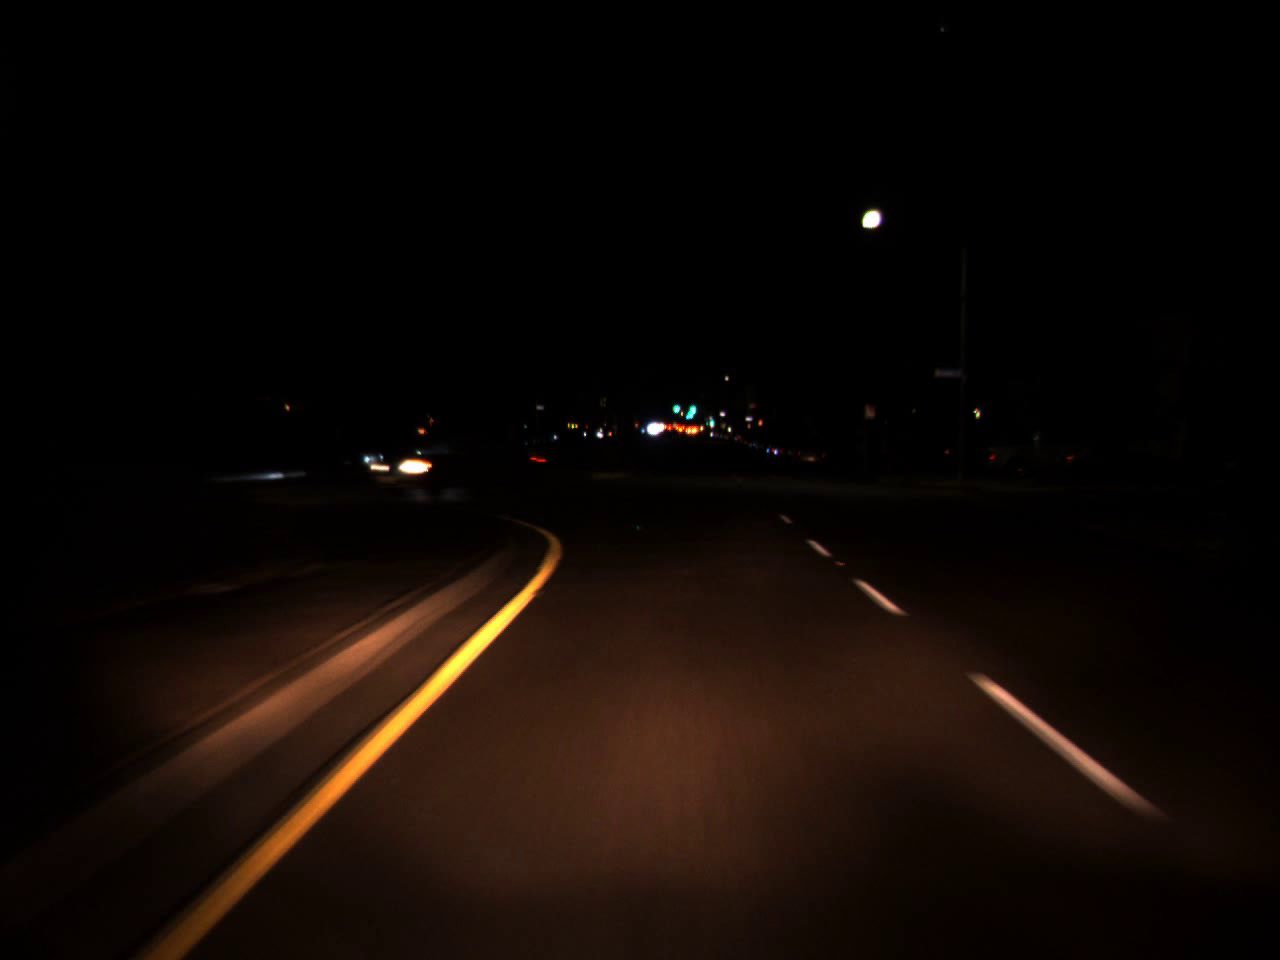go: (686, 394, 696, 415), (672, 397, 679, 415), (708, 412, 715, 427)
